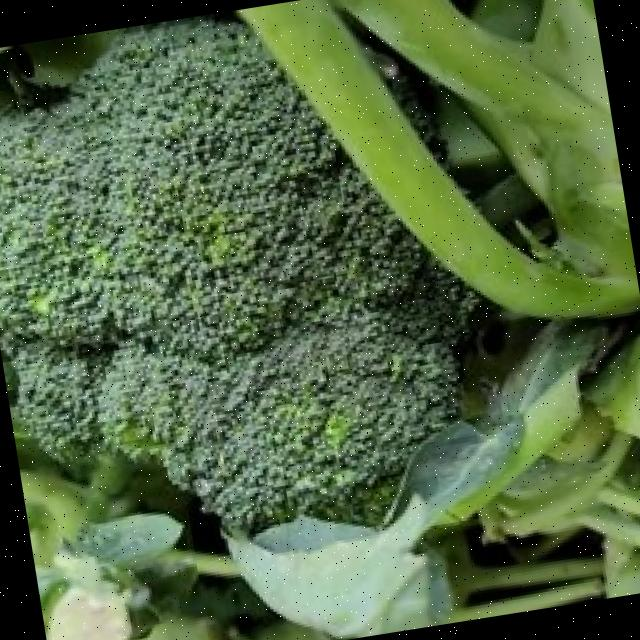Broccoli: (0, 24, 474, 528), (0, 24, 473, 528)
